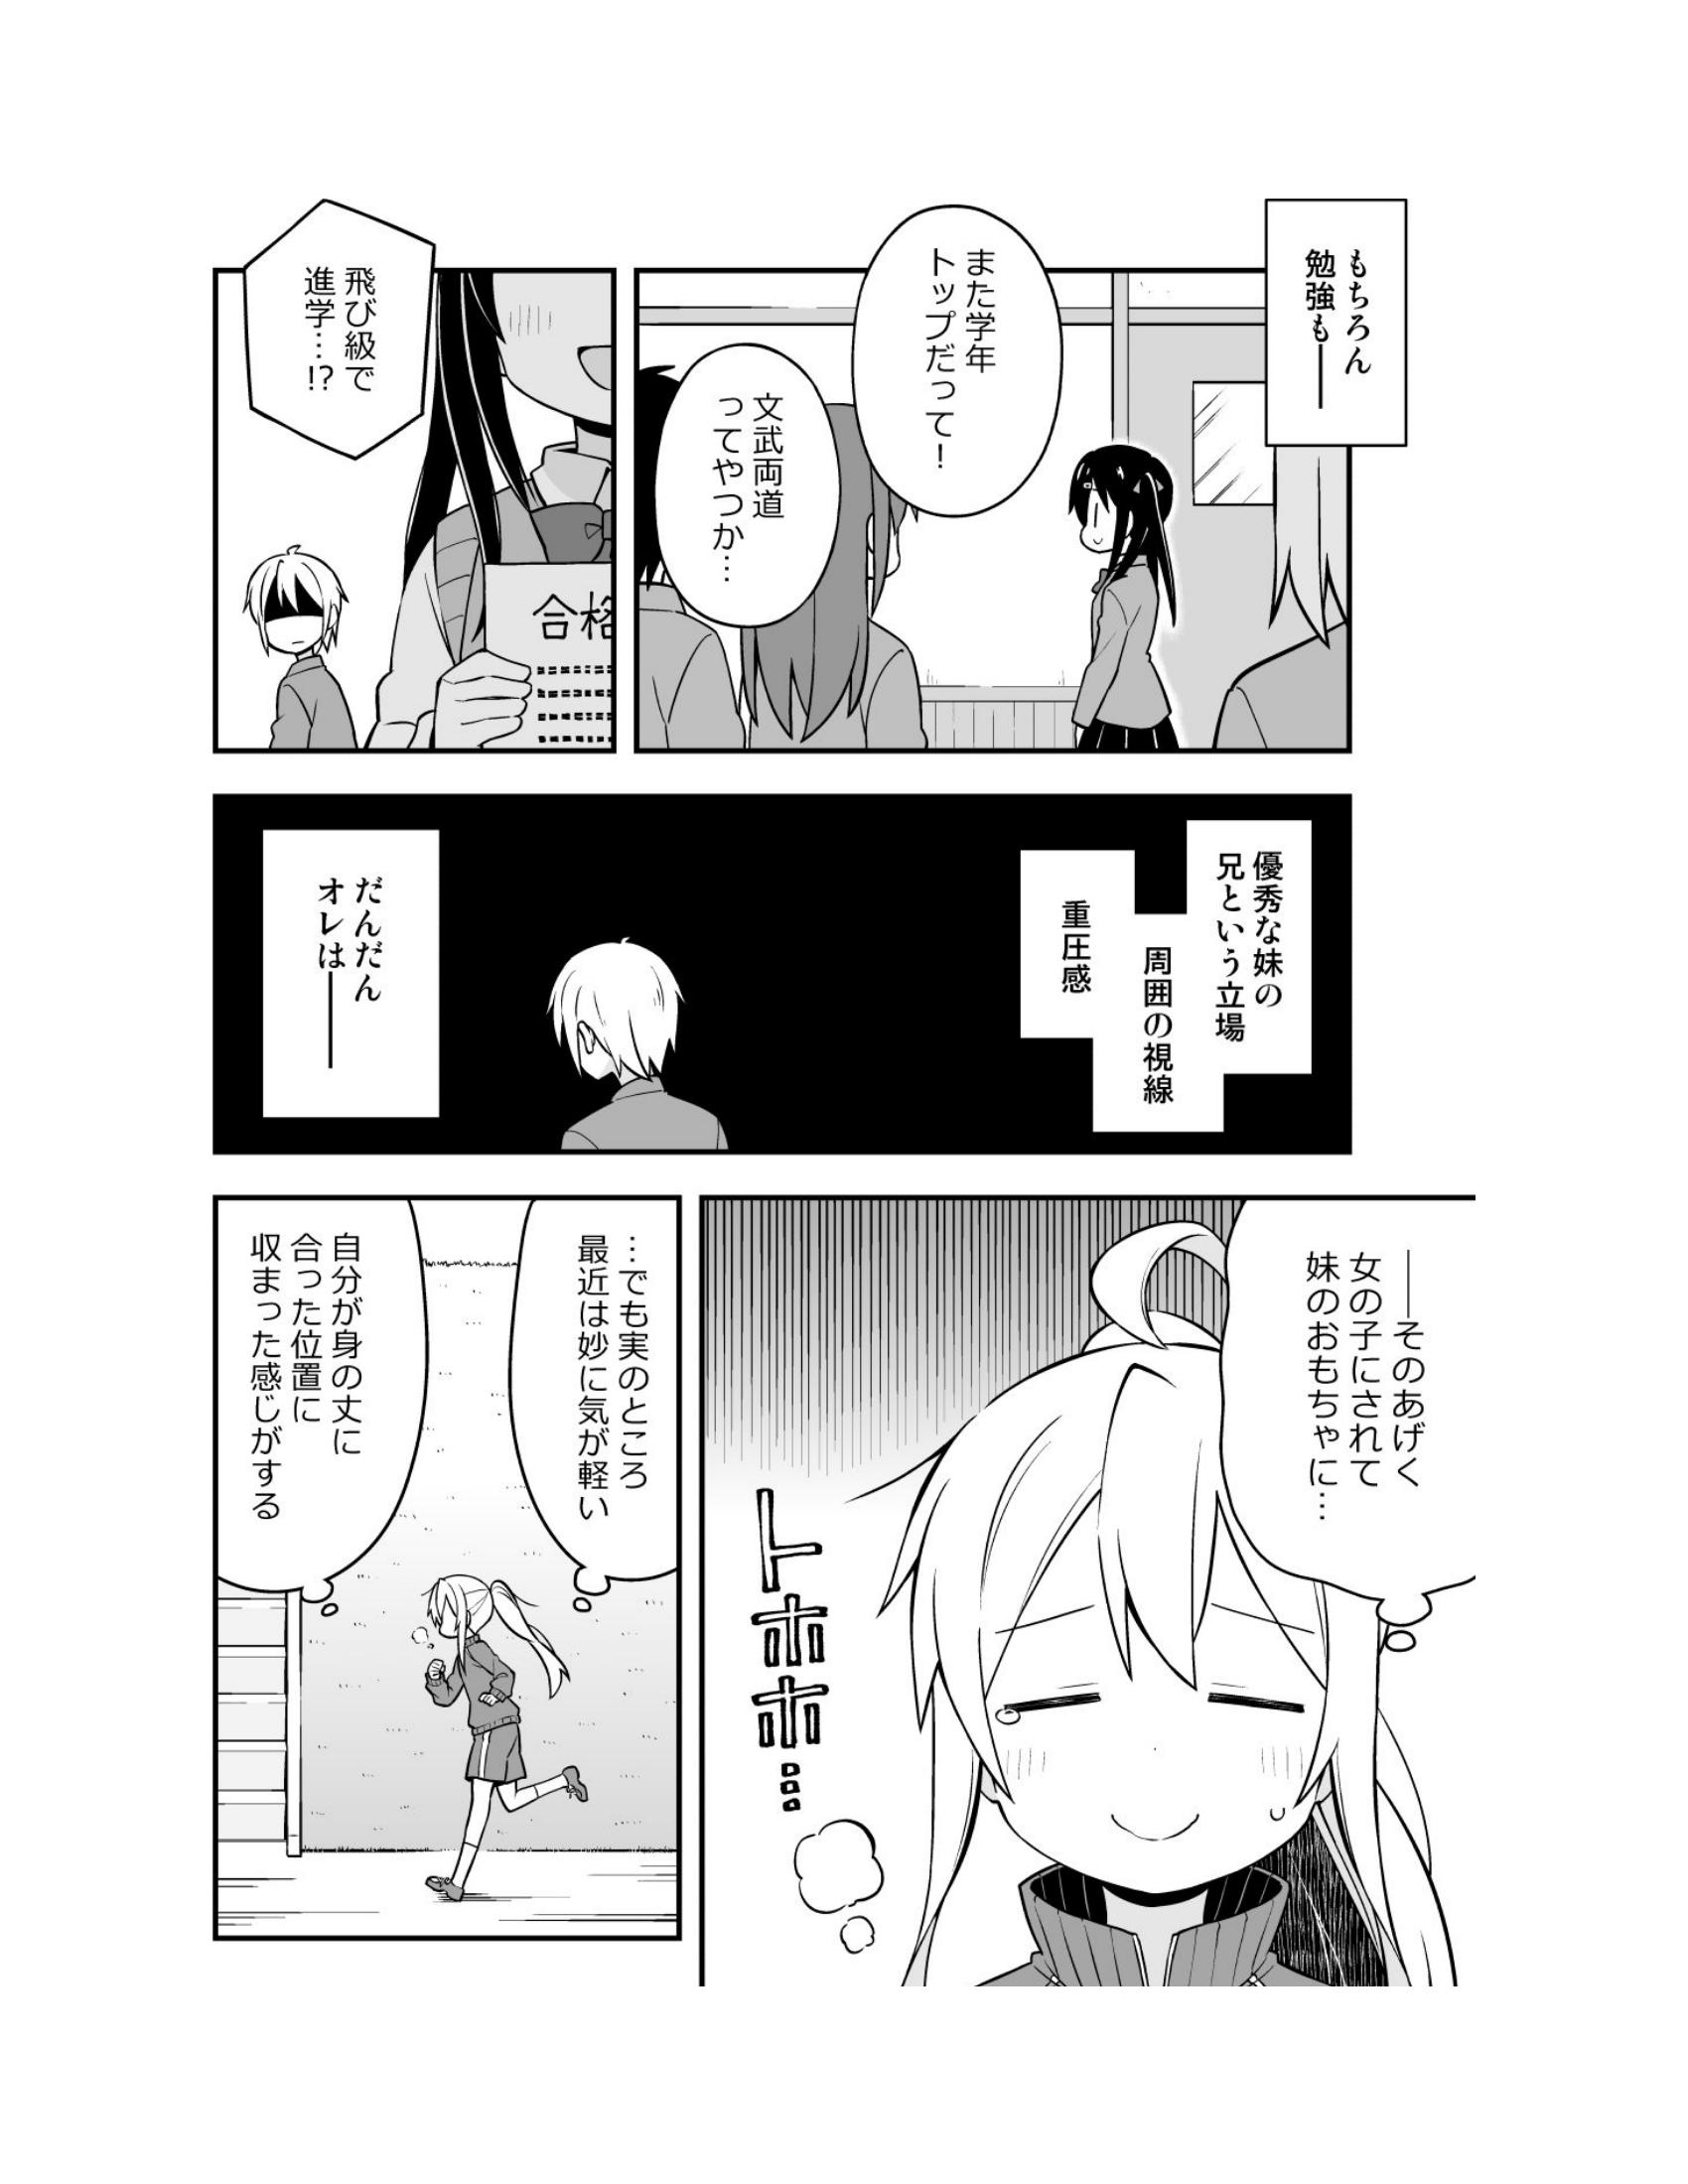a: (1207, 1202, 1489, 1633), (1025, 831, 1348, 1138), (207, 1184, 410, 1581), (541, 1214, 736, 1599), (1190, 188, 1445, 445), (856, 206, 1062, 514), (238, 206, 452, 487), (245, 817, 470, 1074), (658, 344, 849, 626)
